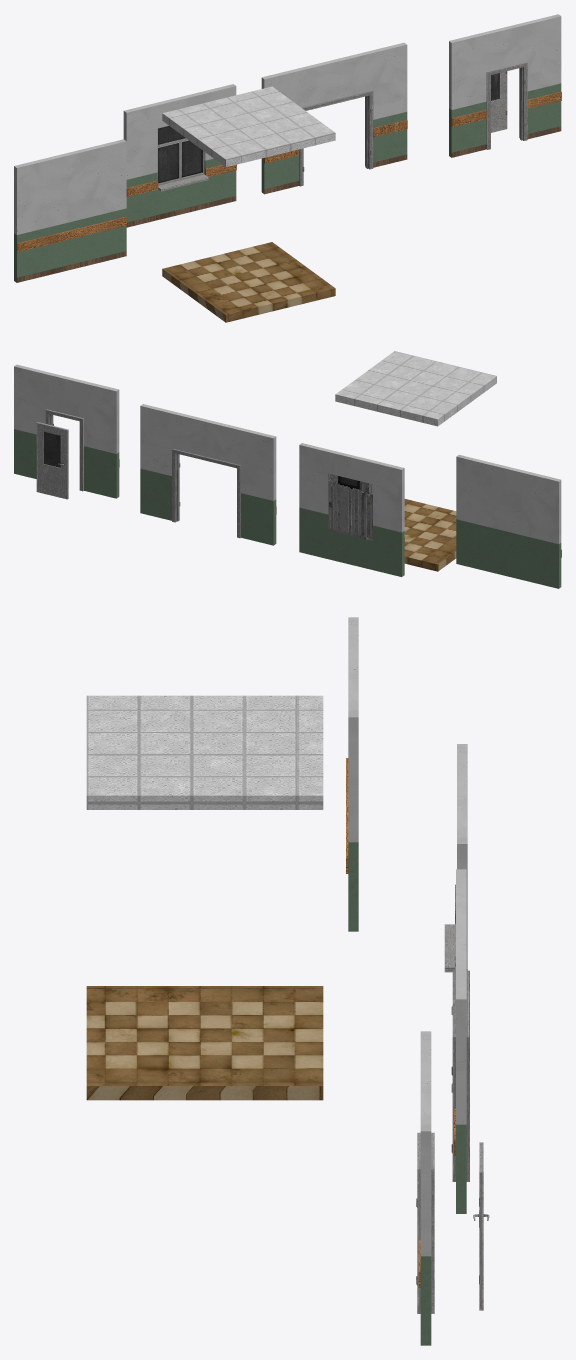
Rendered from HospitalModular.glb.
The picture shows the model from 3 angles, top to bottom: view 1: azimuth 30°, elevation 25°; view 2: azimuth 150°, elevation 25°; view 3: azimuth 270°, elevation 25°; orthographic projection. The views are drawn at different scales.
Parts seen in each view (by area): view 1: Wall.002, Cube.004, DoorframeCabinetDouble, Wall.003, Ceiling, Floor, DoorCabinet.001; view 2: Wall.003, Wall.002, DoorframeCabinetDouble, Cube.004, Ceiling, Floor, DoorCabinet.001; view 3: Ceiling, Floor, DoorframeCabinetDouble, Cube.004, Wall.002, Wall.003, DoorCabinet.001.
Boxes of the visible parts, box(x1,y1,x2,y2) form: Wall.002: box(14, 139, 126, 282); Cube.004: box(449, 14, 561, 157); DoorframeCabinetDouble: box(261, 42, 407, 194); Wall.003: box(123, 84, 236, 227); Ceiling: box(162, 86, 335, 166); Floor: box(162, 242, 335, 322); DoorCabinet.001: box(491, 71, 507, 132); Wall.003: box(299, 443, 404, 576); Wall.002: box(456, 455, 561, 588); DoorframeCabinetDouble: box(140, 404, 276, 545); Cube.004: box(14, 364, 119, 498); Ceiling: box(335, 351, 496, 426); Floor: box(404, 499, 456, 571); DoorCabinet.001: box(36, 422, 68, 499); Ceiling: box(86, 695, 323, 809); Floor: box(86, 986, 323, 1100); DoorframeCabinetDouble: box(451, 869, 469, 1213); Cube.004: box(416, 1031, 434, 1345); Wall.002: box(346, 617, 358, 931); Wall.003: box(444, 744, 467, 972); DoorCabinet.001: box(473, 1142, 489, 1310).
Bounding box in the file's own units: 15.41 × 4.26 × 5.11.
Materials: 9 (9 with a texture image).
